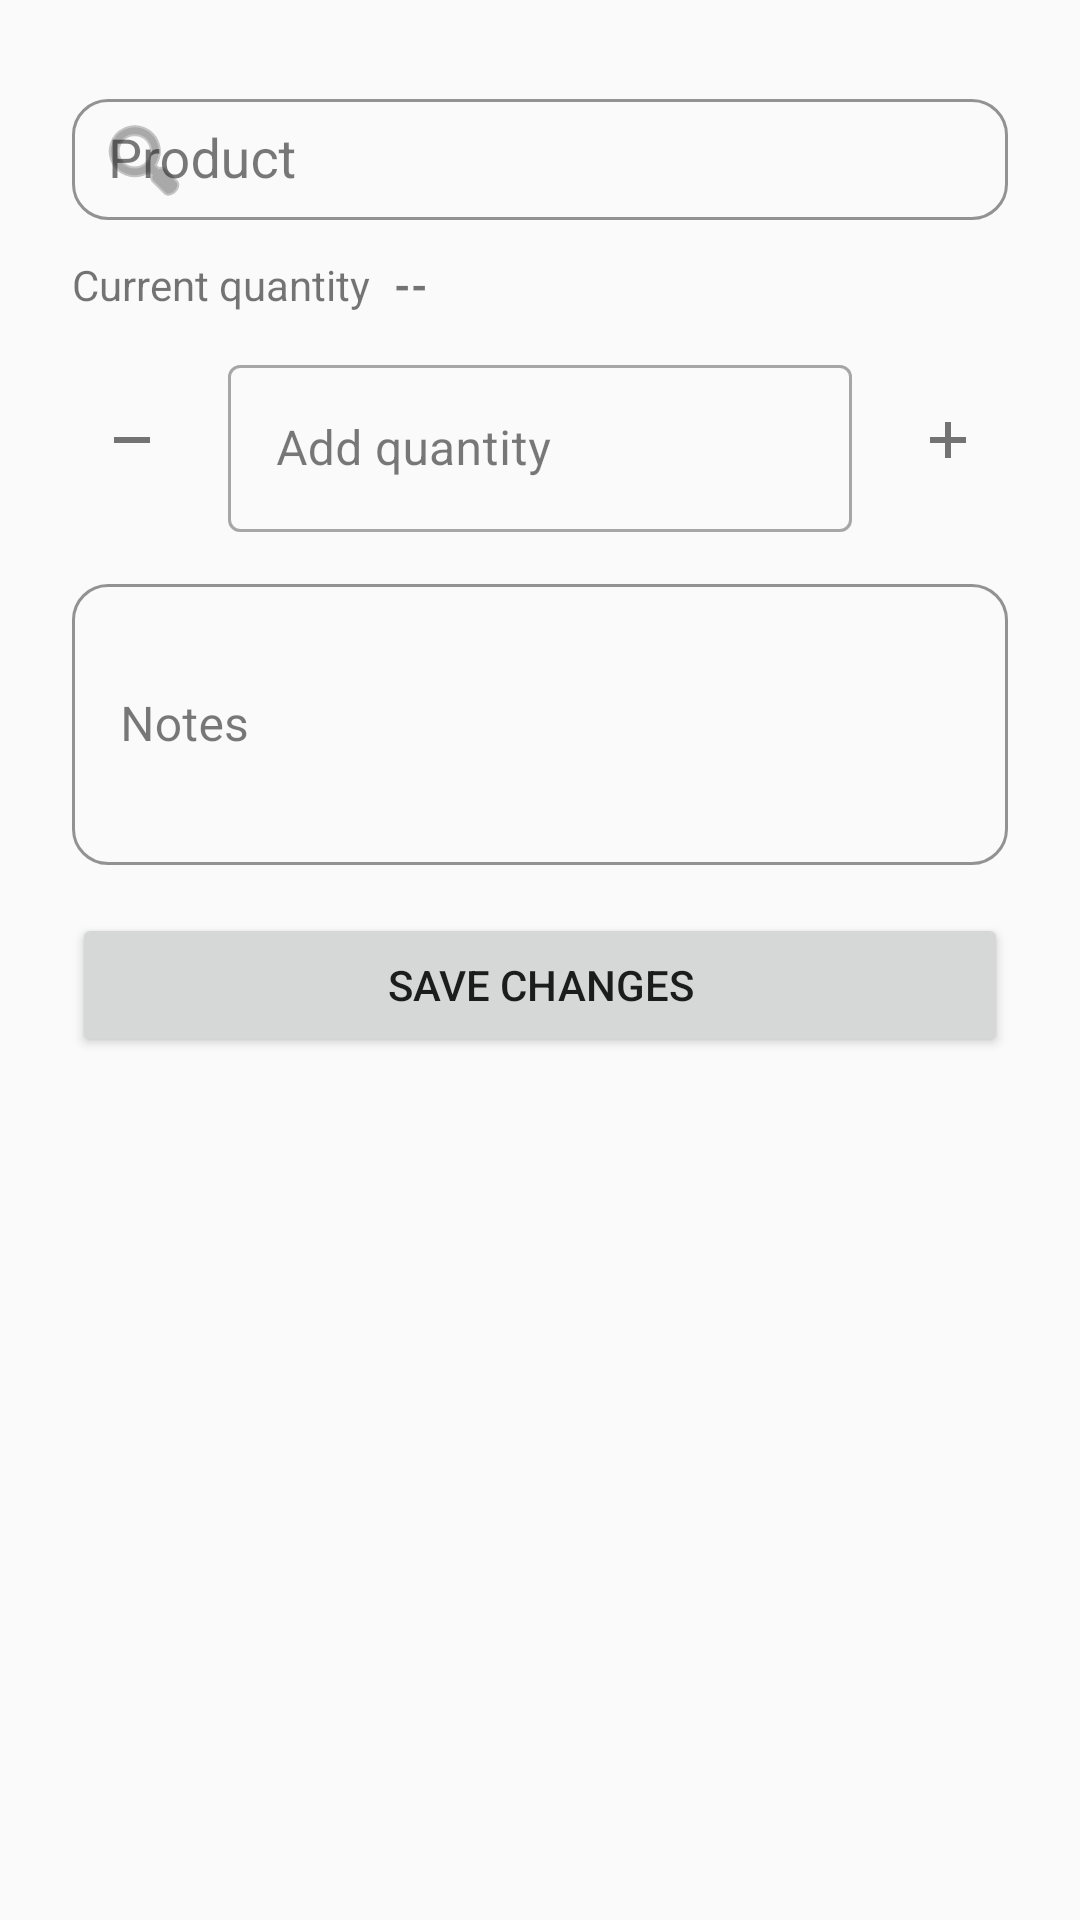

Screen size 1080 x 1920. Icon name, then its box in pixels as {"x1": x1, "y1": y1, "x2": x2, "y2": y2}:
Increment quantity: {"x1": 930, "y1": 422, "x2": 966, "y2": 458}
